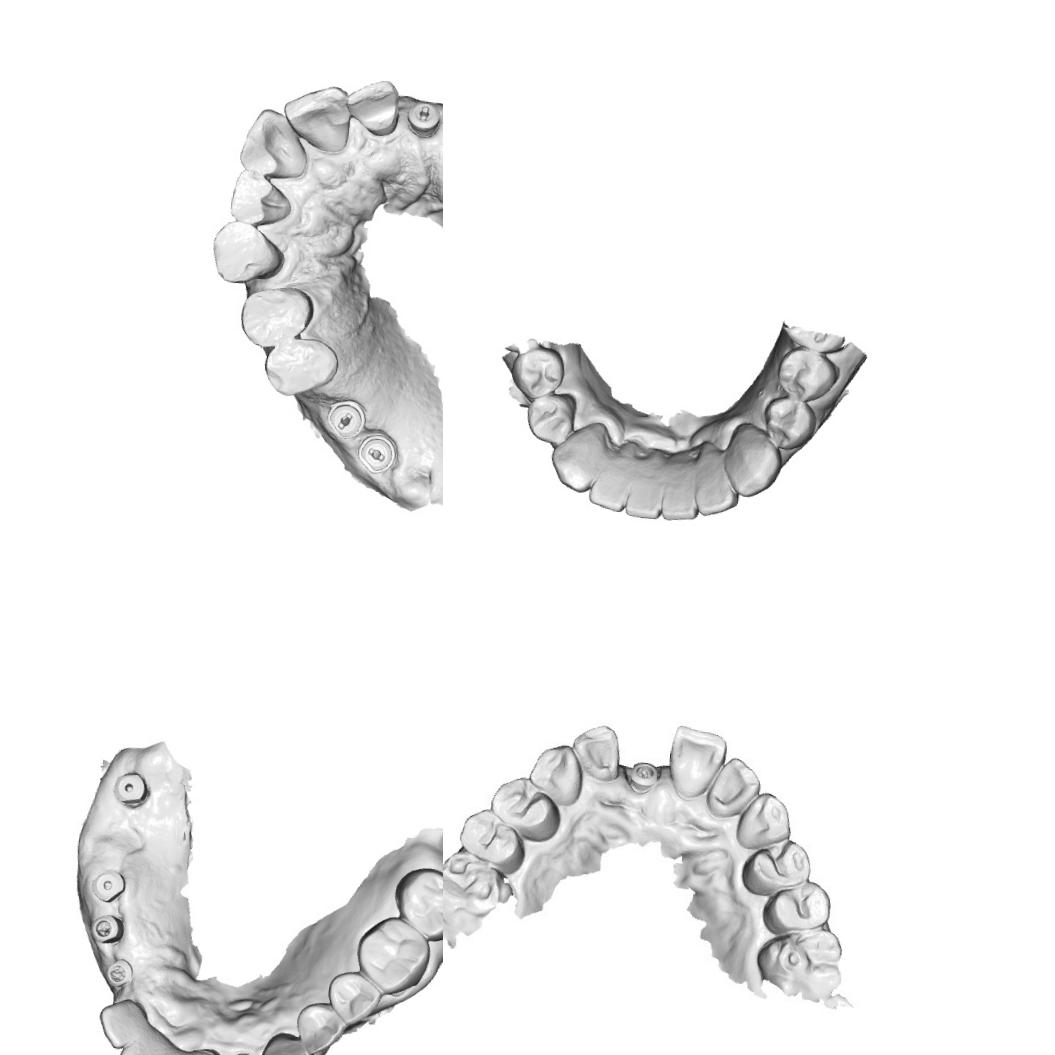canine: (204, 216, 288, 288), (720, 420, 784, 502), (545, 423, 604, 499), (525, 739, 586, 810), (732, 788, 794, 853), (256, 1029, 316, 1055)
implant: (110, 768, 152, 809), (88, 866, 127, 904), (88, 911, 126, 946), (626, 758, 662, 792), (102, 955, 134, 989)
implant_minus: (356, 430, 396, 476), (325, 398, 366, 442), (405, 94, 441, 133)
incisor: (234, 105, 312, 186), (277, 78, 353, 156), (662, 723, 730, 803), (702, 751, 764, 822), (225, 168, 294, 228), (342, 75, 402, 139), (568, 720, 625, 785), (692, 446, 742, 518), (95, 995, 150, 1052), (620, 466, 666, 522), (659, 465, 701, 525), (585, 458, 630, 514), (115, 1023, 175, 1055), (160, 1040, 220, 1055)
molar: (752, 917, 844, 1002), (353, 912, 433, 998), (443, 846, 515, 934), (389, 863, 443, 943)
premolar: (736, 830, 818, 902), (258, 332, 342, 402), (235, 280, 316, 348), (486, 774, 562, 844), (454, 805, 528, 875), (760, 876, 834, 938), (772, 343, 843, 404), (324, 968, 384, 1028), (757, 395, 818, 453), (509, 343, 568, 401), (292, 999, 349, 1055), (522, 390, 578, 444)
